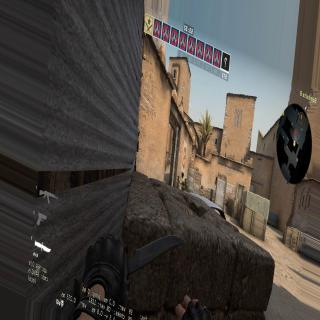CT-Body: (178, 169, 188, 191)
CT-Head: (181, 170, 184, 177)
